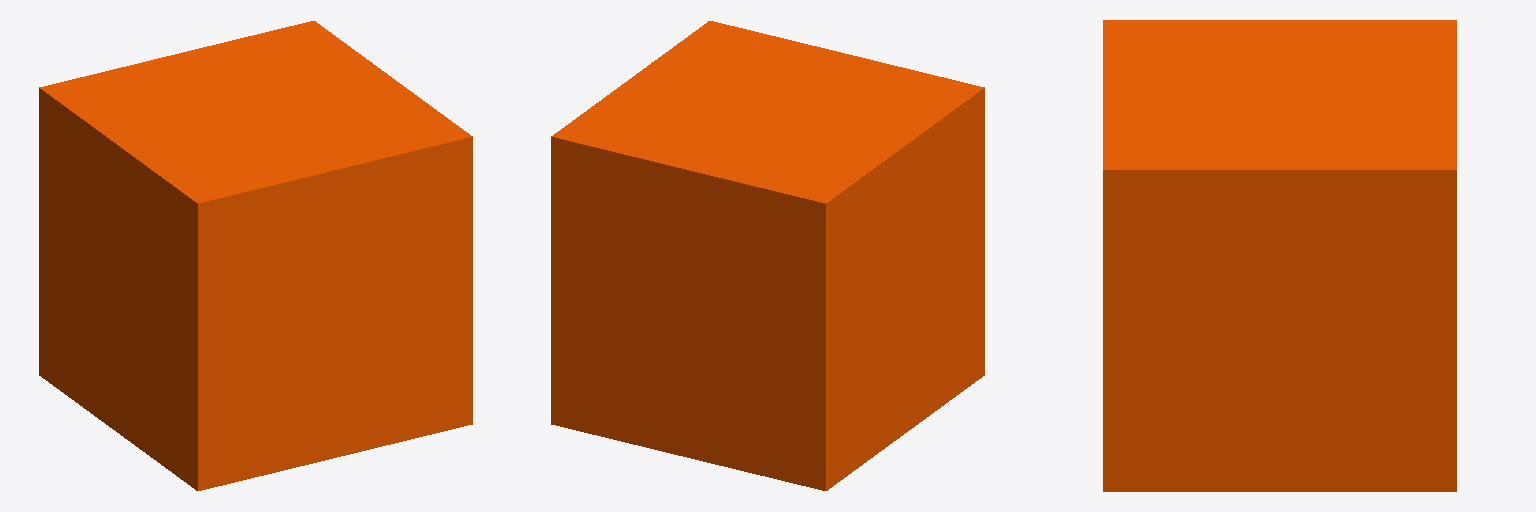
The robot description file, URDF, robot "cubelarge":
<?xml version="1.0" ?>
<robot name="cubelarge">
   <material name="obj_color">
      <color rgba="1.0 0.423529411765 0.0392156862745 1.0"/>
   </material>
   <link name="top">
      <inertial>
         <origin rpy="0.008126482766477124 0.008126482766557915 0.008127497285784343" xyz="-8.039672260627326e-13 -1.235484631653322e-11 -1.612799024358539e-12"/>
         <mass value="3.386457203779498"/>
         <inertia ixx="0.008126482766524742" ixy="1.633355345687048e-13" ixz="3.97449208008133e-14" iyy="0.008127497285784335" iyz="3.22993514704265e-13" izz="0.008126482766510295"/>
      </inertial>
      <visual>
         <origin rpy="0 0 0" xyz="0 0 0"/>
         <geometry>
            <mesh filename="top_watertight_tiny.stl" scale="1 1 1"/>
         </geometry>
         <material name="obj_color"/>
      </visual>
      <collision>
         <origin rpy="0 0 0" xyz="0 0 0"/>
         <geometry>
            <mesh filename="top_watertight_tiny.obj" scale="1 1 1"/>
         </geometry>
      </collision>
   </link>
   <link name="bottom">
      <inertial>
         <origin rpy="1.633333333194242e-08 1.633333333194243e-08 1.633333333357667e-08" xyz="0.3464080000000008 0.3464080000000008 0.3464080000000008"/>
         <mass value="0.0009800000000000017"/>
         <inertia ixx="1.633333333248717e-08" ixy="5.447480642029219e-19" ixz="5.447480642029219e-19" iyy="1.633333333248717e-08" iyz="5.447480642029219e-19" izz="1.633333333248717e-08"/>
      </inertial>
      <visual>
         <origin rpy="0 0 0" xyz="0 0 0"/>
         <geometry>
            <mesh filename="bottom_watertight_tiny.stl" scale="1 1 1"/>
         </geometry>
         <material name="obj_color"/>
      </visual>
   </link>
   <link name="world"/>
   <joint name="world_to_base" type="fixed">
      <origin xyz="0 0 0"/>
      <axis xyz="0 0 0"/>
      <parent link="world"/>
      <child link="bottom"/>
   </joint>
   <joint name="rotation" type="revolute">
      <origin xyz="0 0 0"/>
      <axis xyz="0 0 -1"/>
      <parent link="bottom"/>
      <child link="top"/>
      <dynamics damping="1.0" friction="1.0"/>
      <limit effort="0.1" velocity="0.1" lower="0" upper="0.001"/>
   </joint>
</robot>

--- Render facts (derived) ---
Views: 3 orthographic renders of the robot side by side, from view 1: azimuth 30°, elevation 25°; view 2: azimuth 150°, elevation 25°; view 3: azimuth 270°, elevation 25°.
Model cubelarge with 3 links and 2 joints (1 revolute, 1 fixed), rooted at world, posed every joint at zero.
Links seen in each view (by area): view 1: top; view 2: top; view 3: top.
Link boxes in pixels (bbox=[...]): top: bbox=[39, 21, 472, 490]; top: bbox=[551, 21, 984, 490]; top: bbox=[1103, 20, 1456, 491].
Size in the robot's own frame: 0.12 by 0.12 by 0.12 metres.
1 mesh visuals loaded from 2 distinct referenced files (1 binary STL); not drawn: 1 (reference not matched to a file when rendering).
